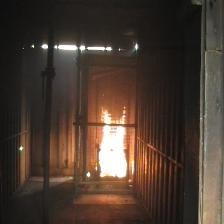fire: (94, 107, 135, 180)
